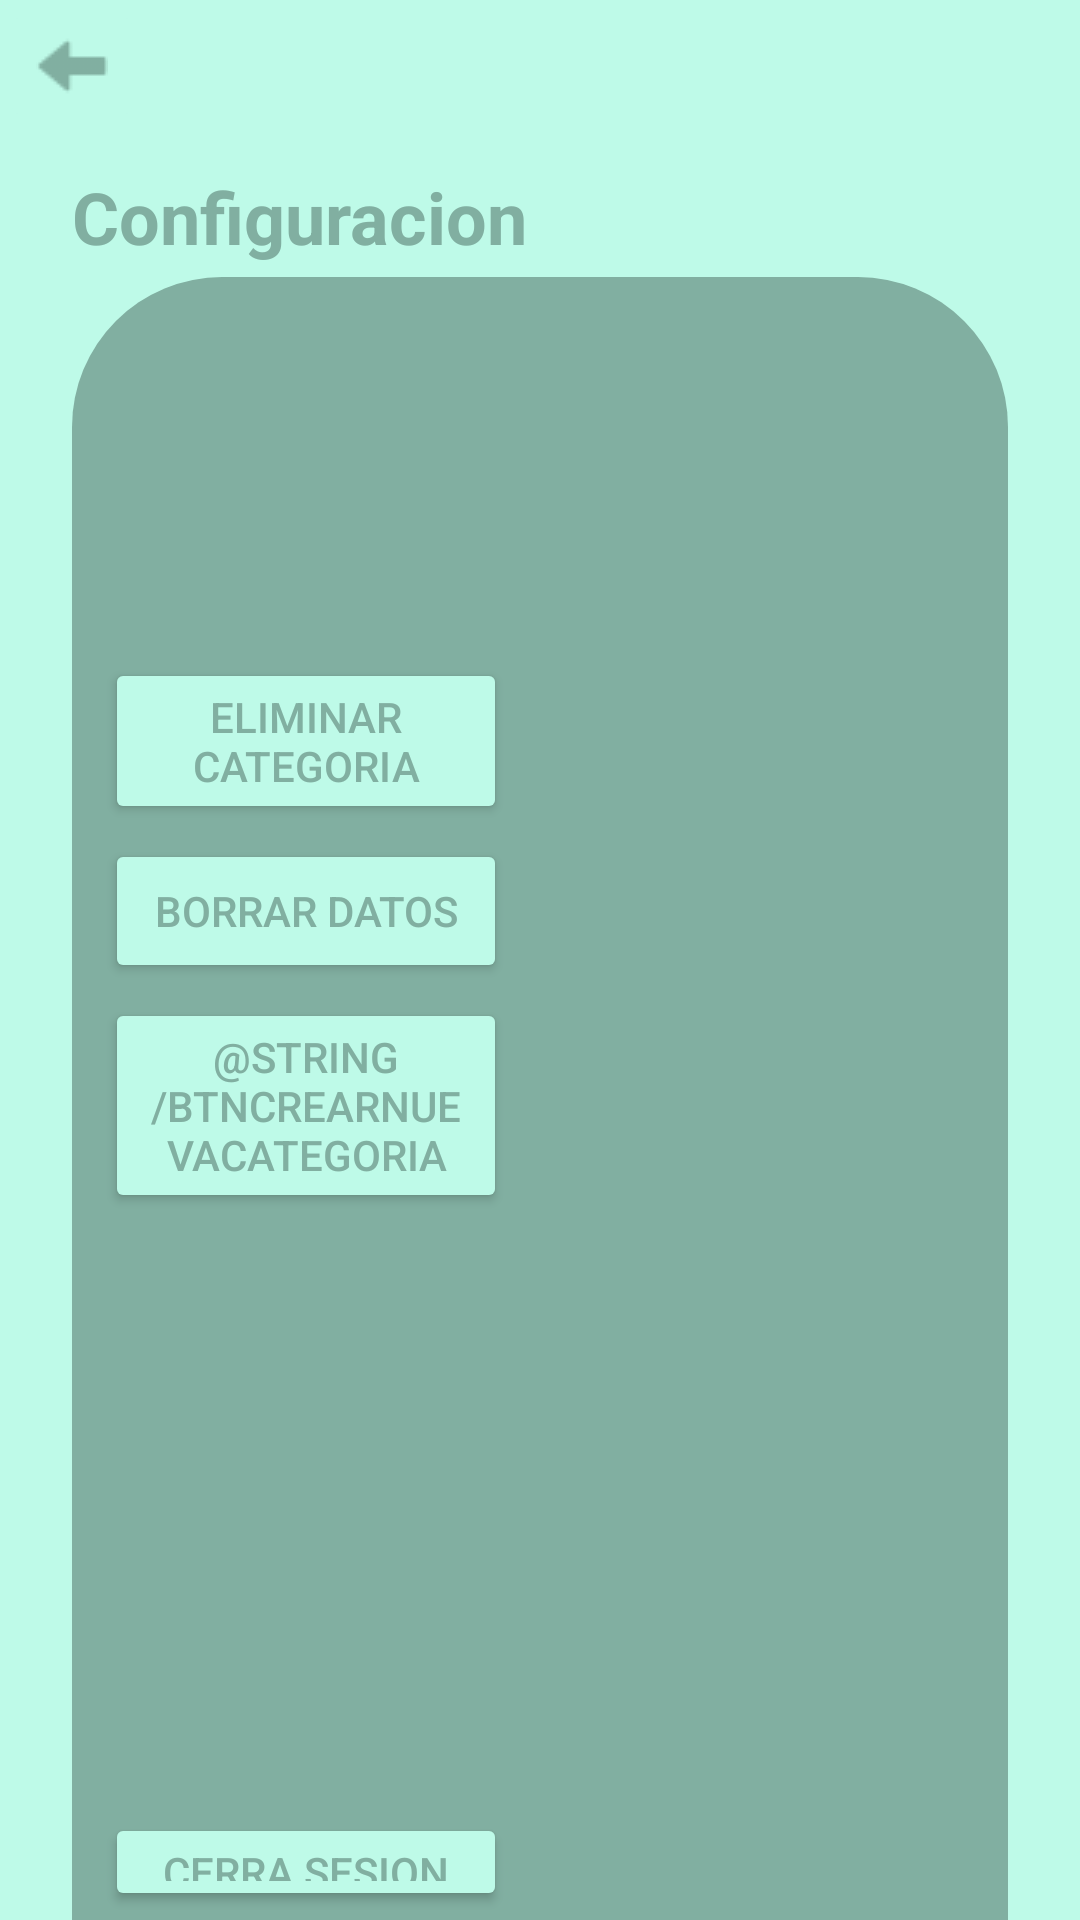

Named icons in this screenshot (1080x1920) and their bounding boxes, bbox=(x1, y1, x2, y2):
back: bbox=(38, 41, 106, 91)
